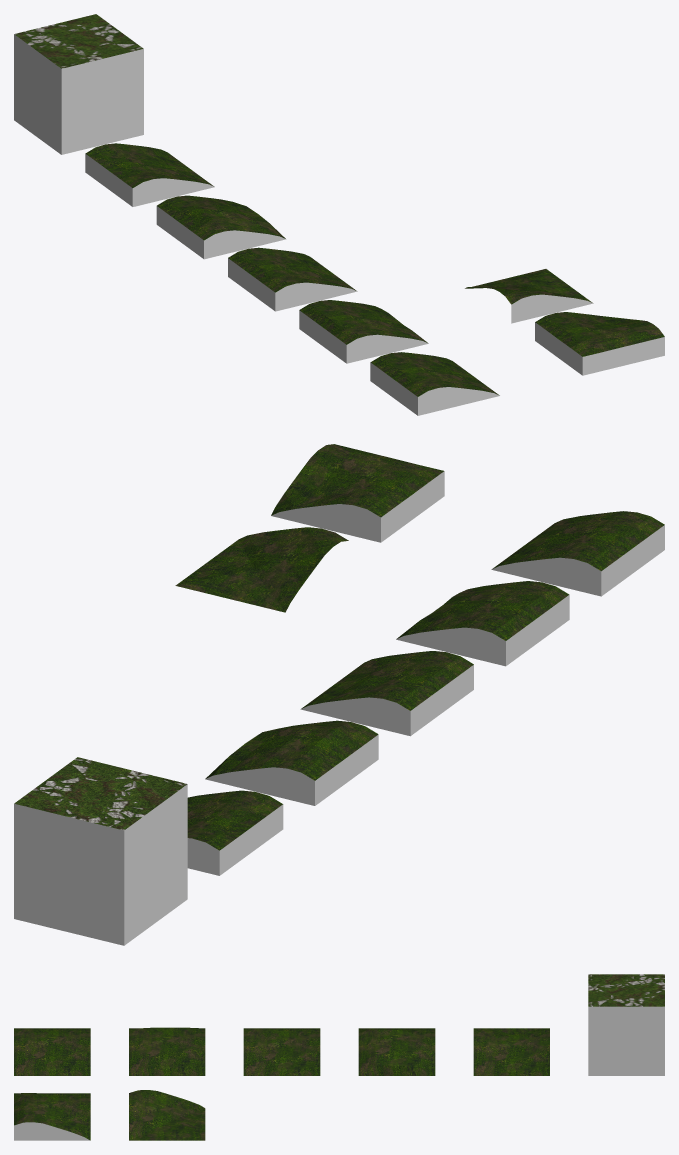
The model's file is forest_grid.glb.
3 views of the same model, one above another, from view 1: azimuth 30°, elevation 25°; view 2: azimuth 150°, elevation 25°; view 3: azimuth 270°, elevation 25° (orthographic). The views are drawn at different scales.
Visible parts, largest first — view 1: Ground, OuterCornerWall, Wall4, Wall2, Wall1, Wall5, Wall3, InnerCornerWall; view 2: Ground, OuterCornerWall, Wall4, Wall2, Wall1, Wall3, InnerCornerWall, Wall5; view 3: Ground, Wall3, Wall4, Wall2, Wall1, Wall5, OuterCornerWall, InnerCornerWall.
Boxes of the visible parts, x1,y1,x2,y2 form: Ground: (14,14,143,154); OuterCornerWall: (535,312,664,375); Wall4: (156,195,285,259); Wall2: (299,300,428,363); Wall1: (370,352,499,415); Wall5: (85,143,214,206); Wall3: (228,247,357,311); InnerCornerWall: (465,269,593,323); Ground: (14,757,187,945); OuterCornerWall: (271,444,444,542); Wall4: (205,720,378,805); Wall2: (396,581,569,666); Wall1: (491,511,664,596); Wall3: (300,651,473,736); InnerCornerWall: (175,527,348,612); Wall5: (187,790,283,875); Ground: (588,974,664,1075); Wall3: (243,1028,320,1075); Wall4: (358,1028,435,1075); Wall2: (129,1027,205,1075); Wall1: (14,1028,90,1075); Wall5: (473,1028,549,1075); OuterCornerWall: (14,1093,90,1140); InnerCornerWall: (129,1090,205,1140).
Bounding box in the file's own units: 3 × 1 × 8.5.
3 materials, 2 textured.
